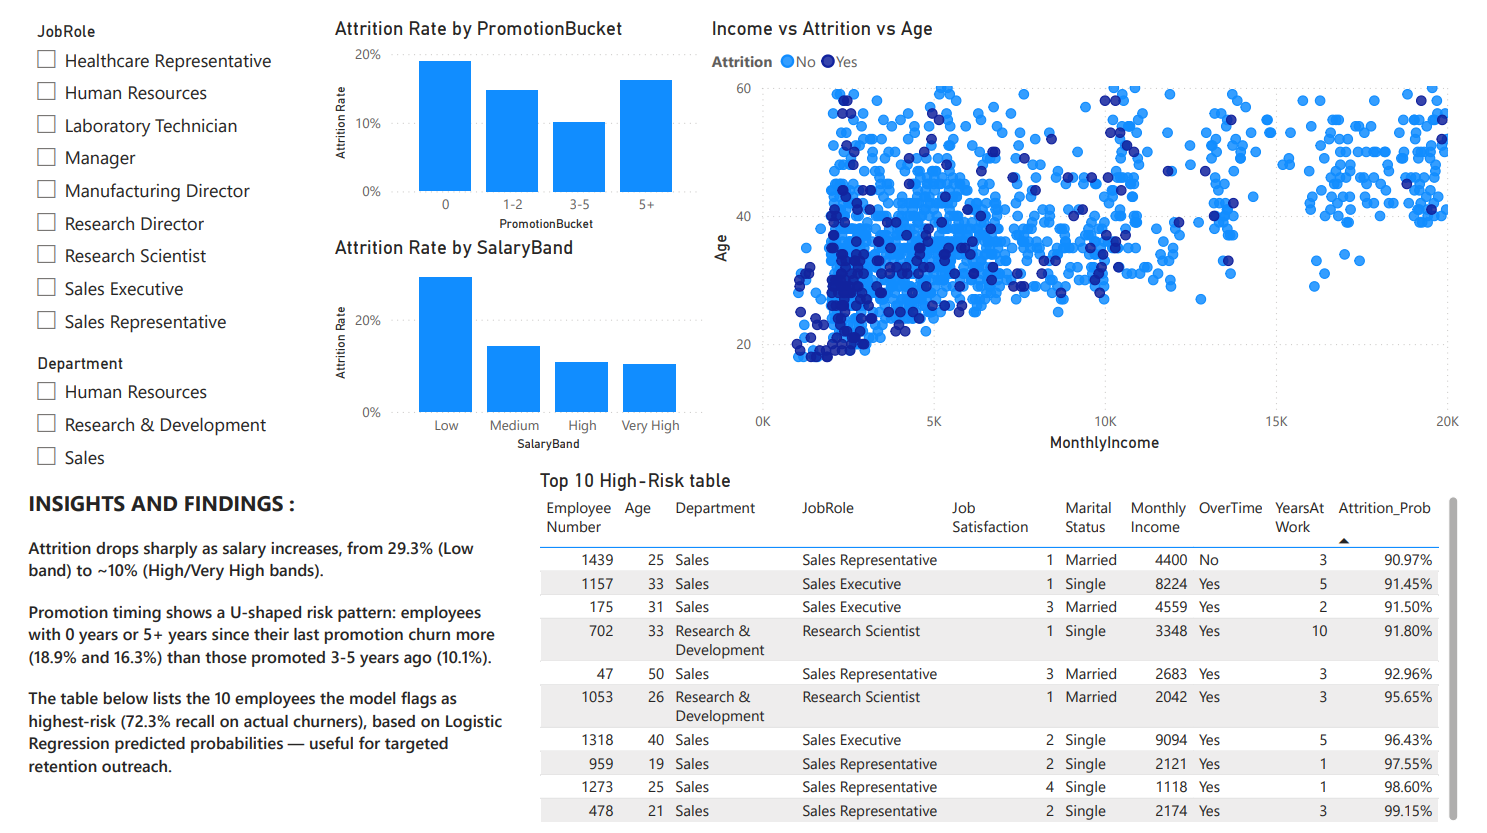

What the dashboard file says about the page in this screenshot:
{"tool":"powerbi","page":{"name":"Page 2","canvas":[1280,720],"ordinal":1},"visuals":[{"type":"tableEx","title":"Top 10 High-Risk table","fields":{"Values":["high_risk_employees.EmployeeNumber","high_risk_employees.Age","high_risk_employees.Department","high_risk_employees.JobRole","high_risk_employees.JobSatisfaction","high_risk_employees.MaritalStatus","high_risk_employees.MonthlyIncome","high_risk_employees.OverTime","high_risk_employees.YearsAtCompany","high_risk_employees.Attrition_Probability"]},"box":[454,401.8,826,318.5],"z":0},{"type":"slicer","fields":{"Values":["Employees.Department"]},"box":[0,294.8,230.1,119.4],"z":1},{"type":"slicer","fields":{"Values":["Employees.JobRole"]},"box":[0,0,230.1,294.8],"z":2},{"type":"clusteredColumnChart","fields":{"Category":["Employees.SalaryBand"],"Y":["Employees.Attrition Rate"]},"box":[272.4,195.3,338.4,195.3],"z":4},{"type":"clusteredColumnChart","fields":{"Category":["Employees.PromotionBucket"],"Y":["Employees.Attrition Rate"]},"box":[272.4,0,334.6,195.3],"z":5},{"type":"scatterChart","title":"Income vs Attrition vs Age","fields":{"Series":["Employees.Attrition"],"X":["Employees.MonthlyIncome"],"Y":["Employees.Age"]},"box":[607.1,0,673,390.6],"z":6},{"type":"textbox","box":[0,414.2,440.4,306],"z":7}]}

Visuals, with their boxes in screenshot pixels (x1, y1, x2, y2), scaled from the page's 1280x720 canvas onto the 1487x833 screenshot:
"Top 10 High-Risk table" tableEx: l=527, t=465, r=1486, b=832
slicer - Employees.Department: l=0, t=341, r=267, b=479
slicer - Employees.JobRole: l=0, t=0, r=267, b=341
clusteredColumnChart - Employees.SalaryBand x Employees.Attrition Rate: l=316, t=226, r=710, b=452
clusteredColumnChart - Employees.PromotionBucket x Employees.Attrition Rate: l=316, t=0, r=705, b=226
"Income vs Attrition vs Age" scatterChart: l=705, t=0, r=1486, b=452
textbox: l=0, t=479, r=512, b=832
